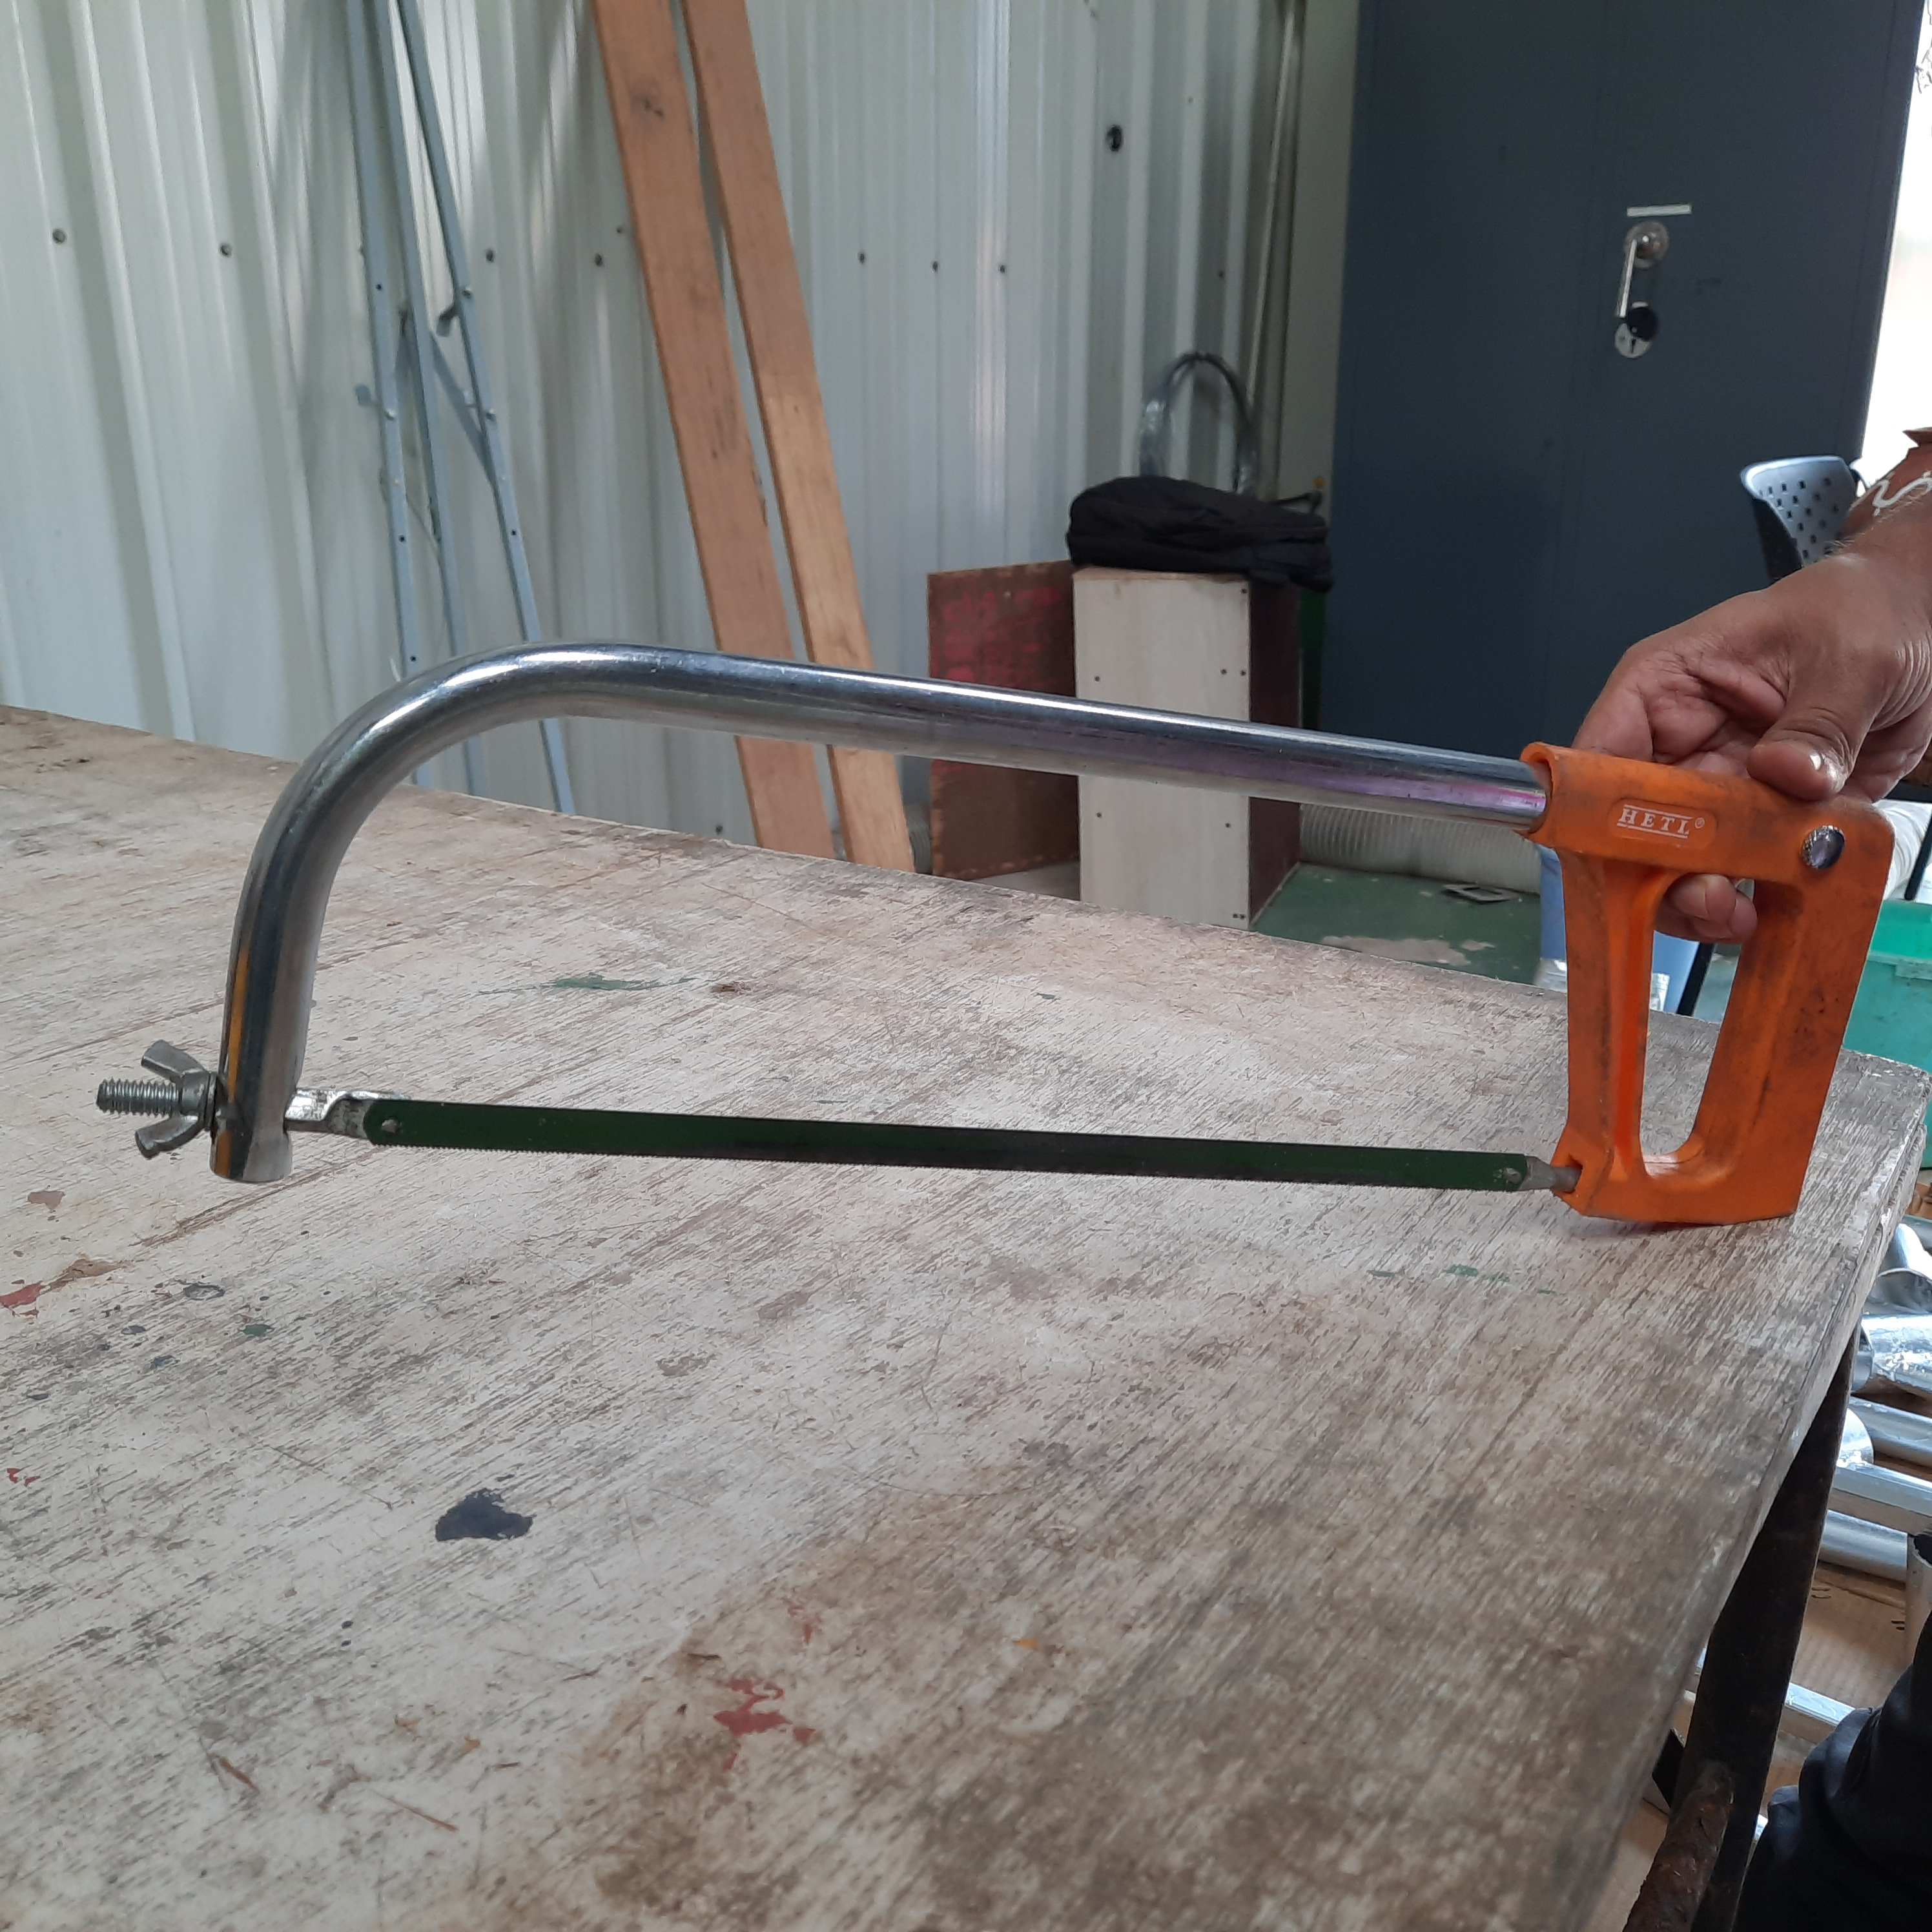Hexaframe: (58, 564, 1905, 1283)
